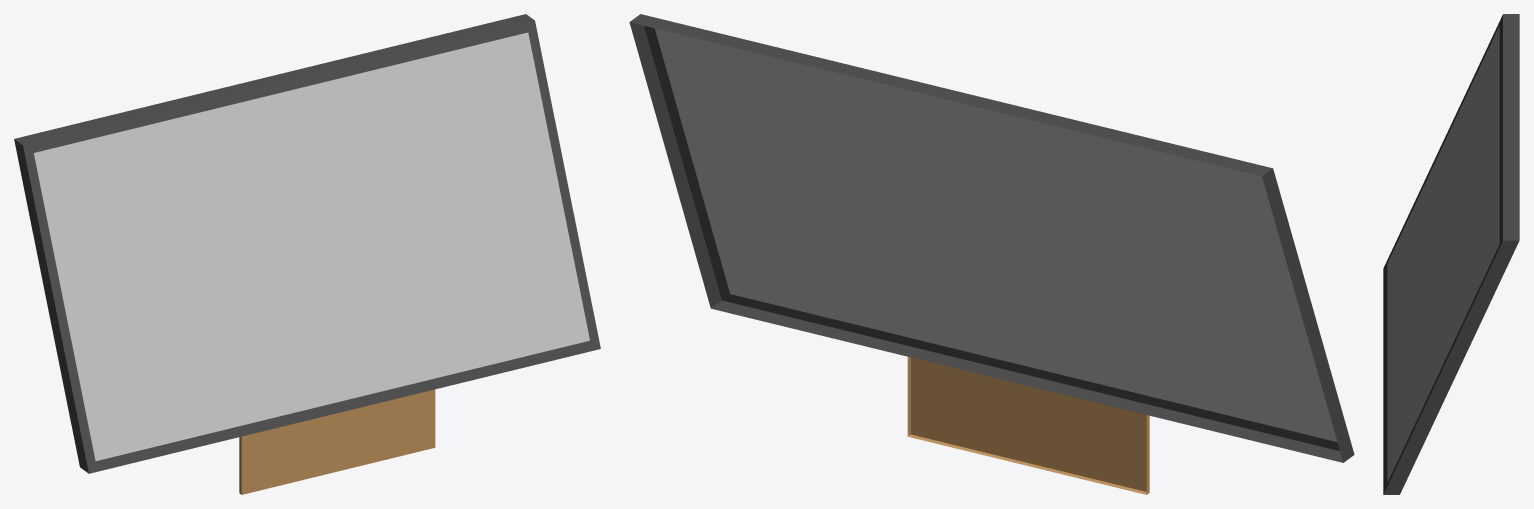
The model's file is Board.fbx.
3 views of the same model, side by side, from view 1: azimuth 30°, elevation 25°; view 2: azimuth 150°, elevation 25°; view 3: azimuth 270°, elevation 25° (orthographic). The views are drawn at different scales.
Visible parts, largest first — view 1: Board; view 2: Board; view 3: Board.
Part boxes in pixels (left/top/right/bottom): Board: left=14, top=14, right=600, bottom=494; Board: left=629, top=14, right=1354, bottom=494; Board: left=1383, top=14, right=1519, bottom=494.
Size of the model in its own units: 1161 by 747 by 294.
